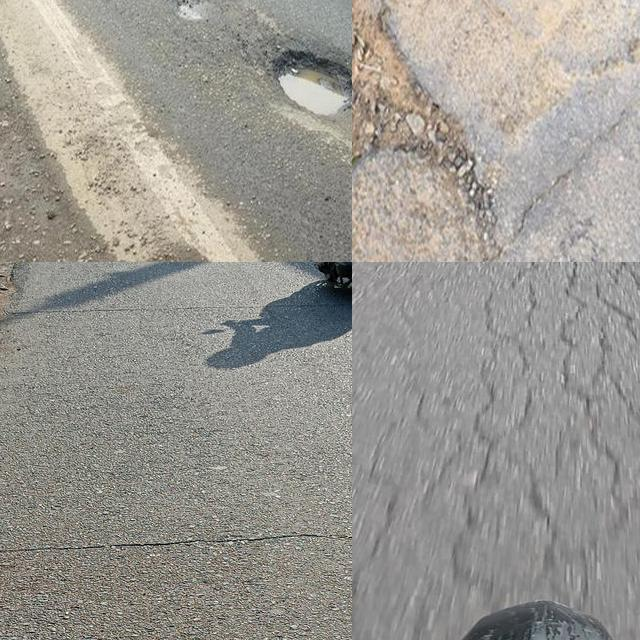Lubang: (352, 0, 491, 249), (263, 51, 352, 111)
Melintang: (0, 520, 352, 570)
Retak Buaya: (427, 262, 640, 627)
